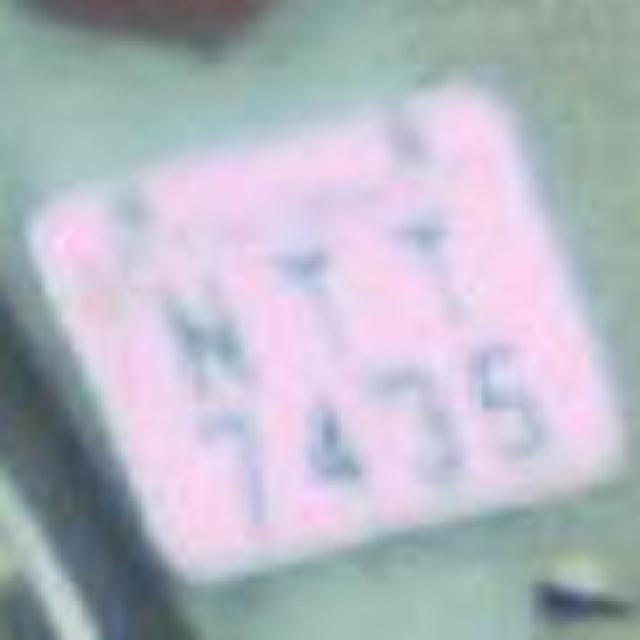3: (349, 344, 476, 504)
4: (271, 371, 384, 524)
5: (448, 320, 568, 480)
7: (168, 388, 292, 552)
N: (140, 244, 268, 416)
T: (260, 215, 380, 380), (376, 184, 489, 348)
